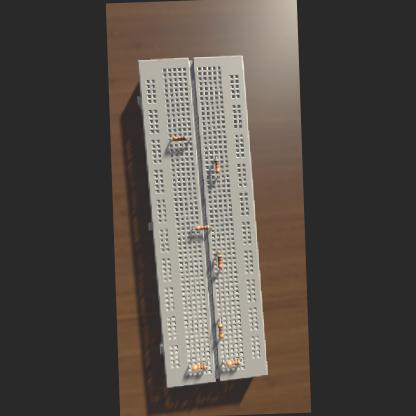breadboard: (136, 55, 268, 388)
resistor: (192, 364, 205, 371), (227, 360, 240, 366), (218, 254, 223, 269), (218, 323, 223, 338), (194, 226, 209, 231), (172, 136, 186, 141), (214, 160, 218, 174)
wire: (219, 317, 221, 324), (223, 360, 226, 364), (206, 362, 209, 366), (187, 138, 190, 141), (240, 358, 242, 362), (216, 174, 218, 178), (190, 364, 192, 368), (209, 226, 212, 228), (170, 139, 172, 142), (218, 249, 219, 254), (219, 269, 221, 270), (216, 156, 217, 158), (192, 228, 194, 229)
